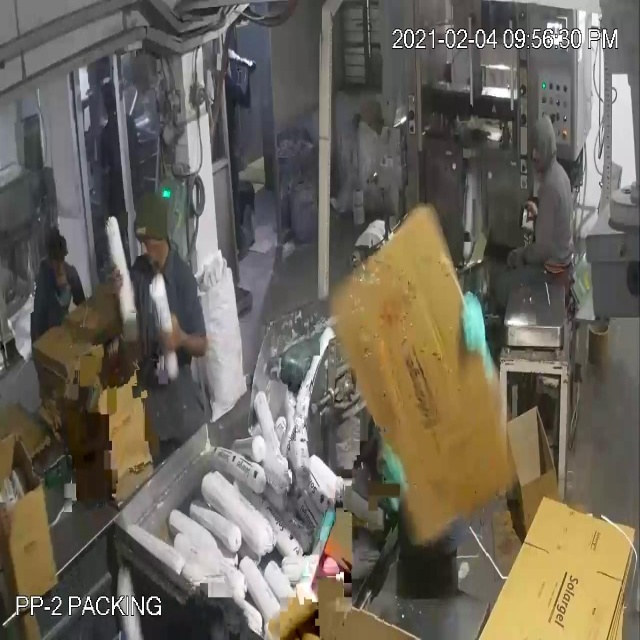Guantes: (455, 282, 496, 387)
Sin_guantes: (148, 298, 217, 376), (95, 247, 135, 323)
